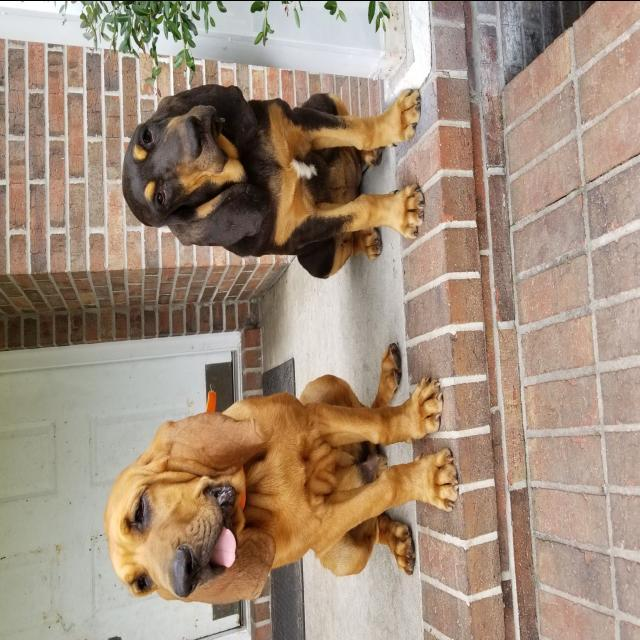Dogs: (104, 338, 462, 620), (117, 72, 427, 282)
